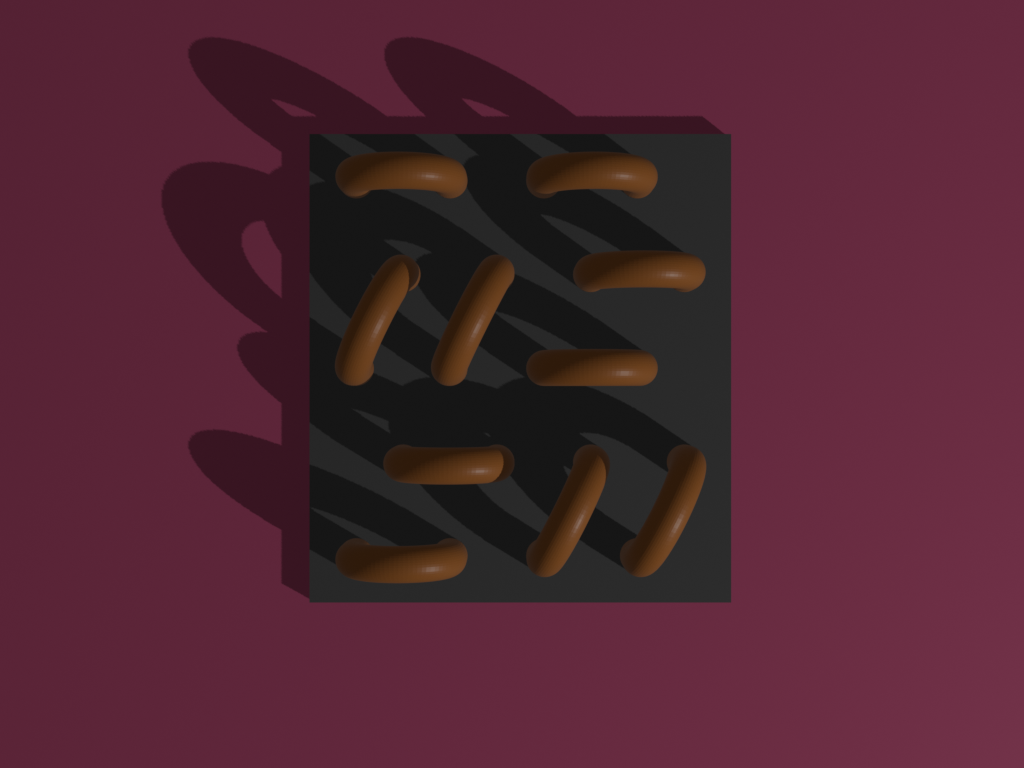return-bend: (502, 421, 633, 601), (600, 420, 730, 600), (409, 232, 539, 412), (309, 220, 439, 400), (318, 526, 485, 601), (367, 434, 534, 509), (517, 334, 684, 409), (558, 232, 725, 307), (513, 137, 680, 212), (318, 137, 485, 212)
